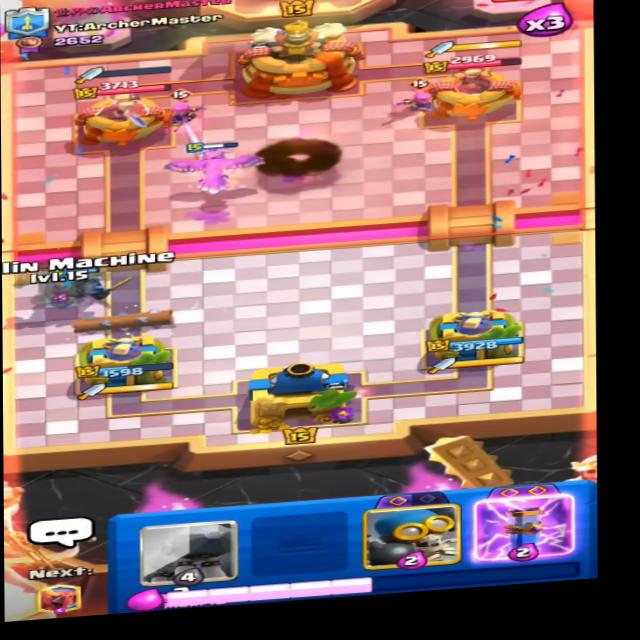evo-archers: (162, 92, 201, 130), (403, 80, 445, 115)
